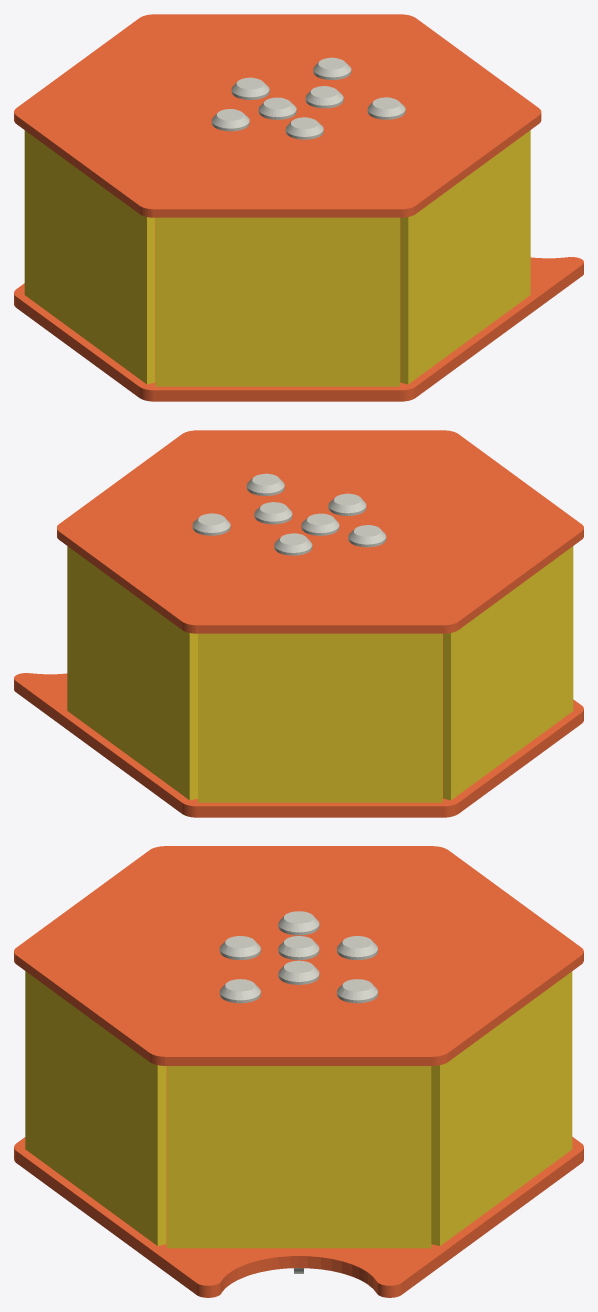
Rendered from base_orange.dae.
The picture shows the model from 3 angles, top to bottom: view 1: azimuth 30°, elevation 25°; view 2: azimuth 150°, elevation 25°; view 3: azimuth 270°, elevation 25°; orthographic projection. The views are drawn at different scales.
Parts seen in each view (by area): view 1: Shape_IndexedFaceSet_154, Shape_IndexedFaceSet_012, Shape_IndexedFaceSet_008, Shape_IndexedFaceSet_010, Shape_IndexedFaceSet, Shape_IndexedFaceSet_156, Shape_IndexedFaceSet_168, Shape_IndexedFaceSet_180, Shape_IndexedFaceSet_172, Shape_IndexedFaceSet_160, Shape_IndexedFaceSet_176, Shape_IndexedFaceSet_164; view 2: Shape_IndexedFaceSet_154, Shape_IndexedFaceSet_002, Shape_IndexedFaceSet_006, Shape_IndexedFaceSet_010, Shape_IndexedFaceSet, Shape_IndexedFaceSet_176, Shape_IndexedFaceSet_156, Shape_IndexedFaceSet_172, Shape_IndexedFaceSet_180, Shape_IndexedFaceSet_160, Shape_IndexedFaceSet_164, Shape_IndexedFaceSet_168; view 3: Shape_IndexedFaceSet_154, Shape_IndexedFaceSet_004, Shape_IndexedFaceSet_008, Shape_IndexedFaceSet_006, Shape_IndexedFaceSet, Shape_IndexedFaceSet_164, Shape_IndexedFaceSet_168, Shape_IndexedFaceSet_156, Shape_IndexedFaceSet_160, Shape_IndexedFaceSet_176, Shape_IndexedFaceSet_180, Shape_IndexedFaceSet_172.
Part boxes in pixels (x1,y1,x2,y2): Shape_IndexedFaceSet_154: (14, 14, 541, 217); Shape_IndexedFaceSet_012: (155, 217, 399, 386); Shape_IndexedFaceSet_008: (400, 130, 530, 384); Shape_IndexedFaceSet_010: (24, 130, 154, 384); Shape_IndexedFaceSet: (14, 218, 583, 401); Shape_IndexedFaceSet_156: (258, 97, 296, 119); Shape_IndexedFaceSet_168: (367, 97, 405, 119); Shape_IndexedFaceSet_180: (285, 117, 323, 139); Shape_IndexedFaceSet_172: (231, 77, 269, 99); Shape_IndexedFaceSet_160: (305, 86, 343, 108); Shape_IndexedFaceSet_176: (313, 57, 351, 79); Shape_IndexedFaceSet_164: (211, 109, 249, 131); Shape_IndexedFaceSet_154: (57, 430, 583, 633); Shape_IndexedFaceSet_002: (198, 633, 442, 802); Shape_IndexedFaceSet_006: (67, 546, 197, 800); Shape_IndexedFaceSet_010: (443, 546, 573, 800); Shape_IndexedFaceSet: (14, 634, 583, 817); Shape_IndexedFaceSet_176: (192, 513, 230, 535); Shape_IndexedFaceSet_156: (301, 513, 339, 535); Shape_IndexedFaceSet_172: (274, 533, 312, 555); Shape_IndexedFaceSet_180: (328, 493, 366, 515); Shape_IndexedFaceSet_160: (254, 502, 292, 524); Shape_IndexedFaceSet_164: (348, 525, 386, 547); Shape_IndexedFaceSet_168: (246, 473, 284, 495); Shape_IndexedFaceSet_154: (14, 846, 583, 1065); Shape_IndexedFaceSet_004: (166, 1066, 431, 1248); Shape_IndexedFaceSet_008: (25, 971, 166, 1245); Shape_IndexedFaceSet_006: (431, 971, 572, 1245); Shape_IndexedFaceSet: (14, 1066, 583, 1297); Shape_IndexedFaceSet_164: (278, 911, 319, 935); Shape_IndexedFaceSet_168: (219, 979, 260, 1003); Shape_IndexedFaceSet_156: (278, 936, 319, 959); Shape_IndexedFaceSet_160: (278, 960, 319, 984); Shape_IndexedFaceSet_176: (337, 979, 377, 1003); Shape_IndexedFaceSet_180: (219, 936, 260, 960); Shape_IndexedFaceSet_172: (337, 936, 377, 960).
Bounding box in the file's own units: 0.1724 × 0.1702 × 0.0818.
